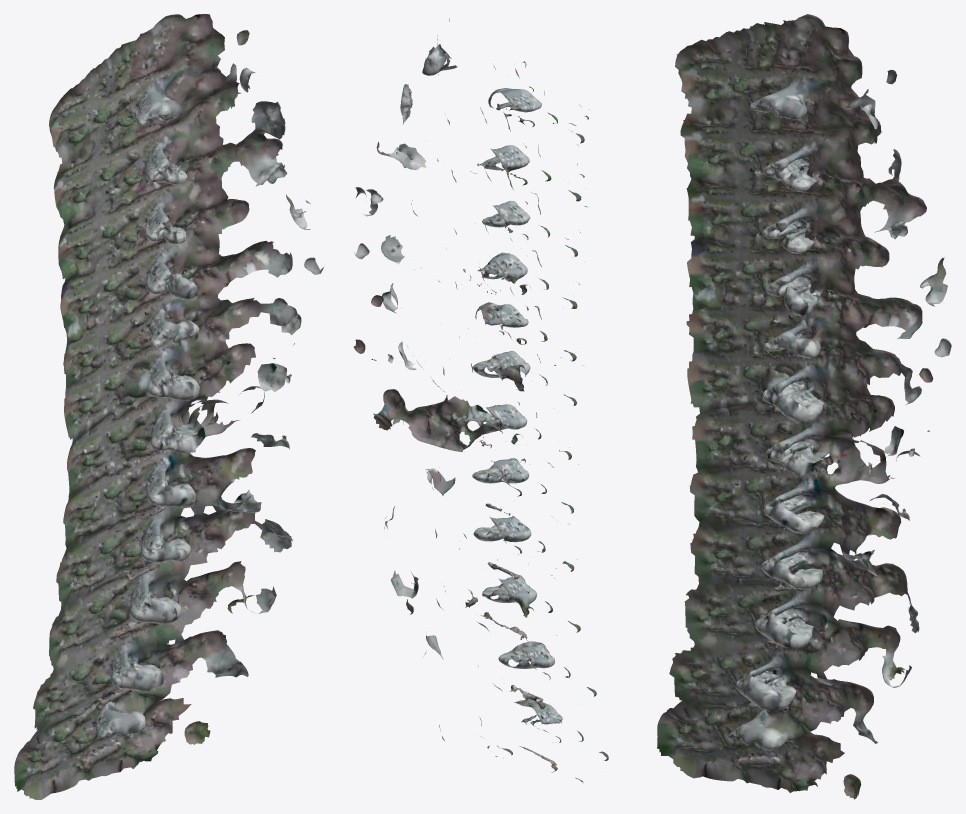
3 views of the same model, side by side, from view 1: azimuth 30°, elevation 25°; view 2: azimuth 150°, elevation 25°; view 3: azimuth 330°, elevation 25° (orthographic). The views are drawn at different scales.
Size of the model in its own units: 32.71 by 81.37 by 6.88.
